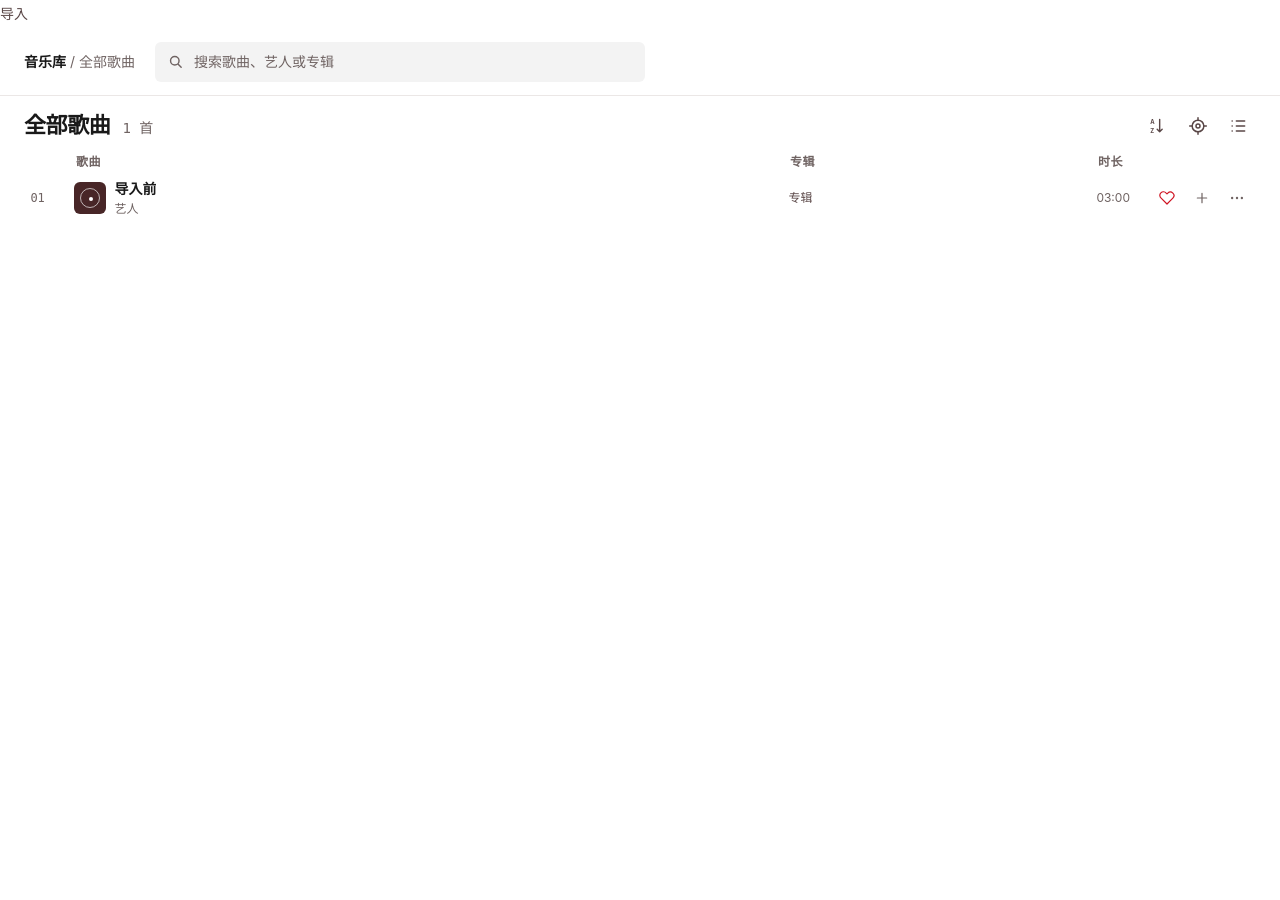
Test: 导入完成后的音乐库刷新（壳层入口） › shows a failure dialog when the import command is rejected
Expected: the text "导入前" is shown, [114,178,156,200]
Click the button with test id "titlebar-import": (14, 14) [0,0,28,28]
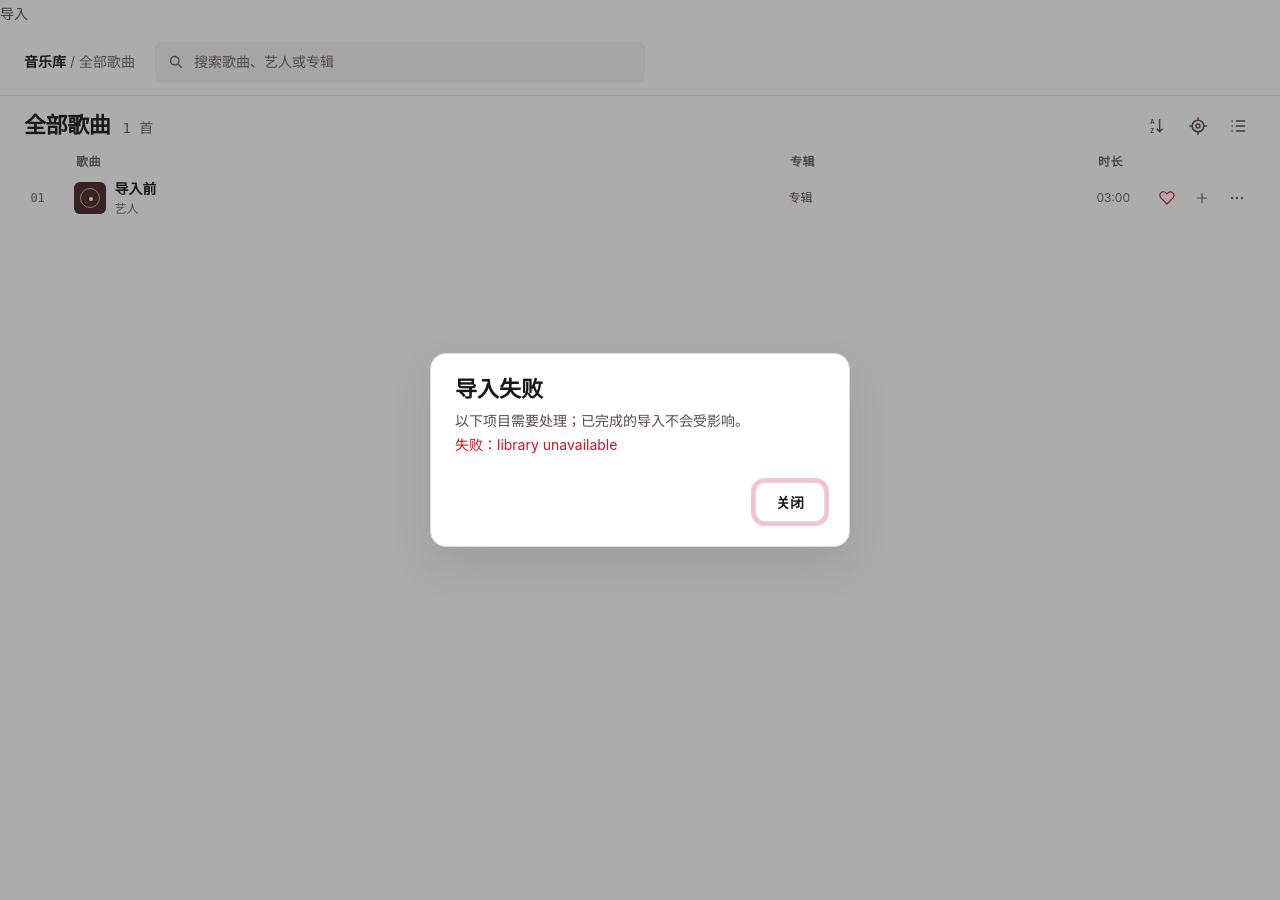
Expected: the dialog with test id "import-dialog" is shown, [430,353,850,547]
Expected: the dialog with test id "import-dialog" shows "导入失败", [455,376,543,402]
